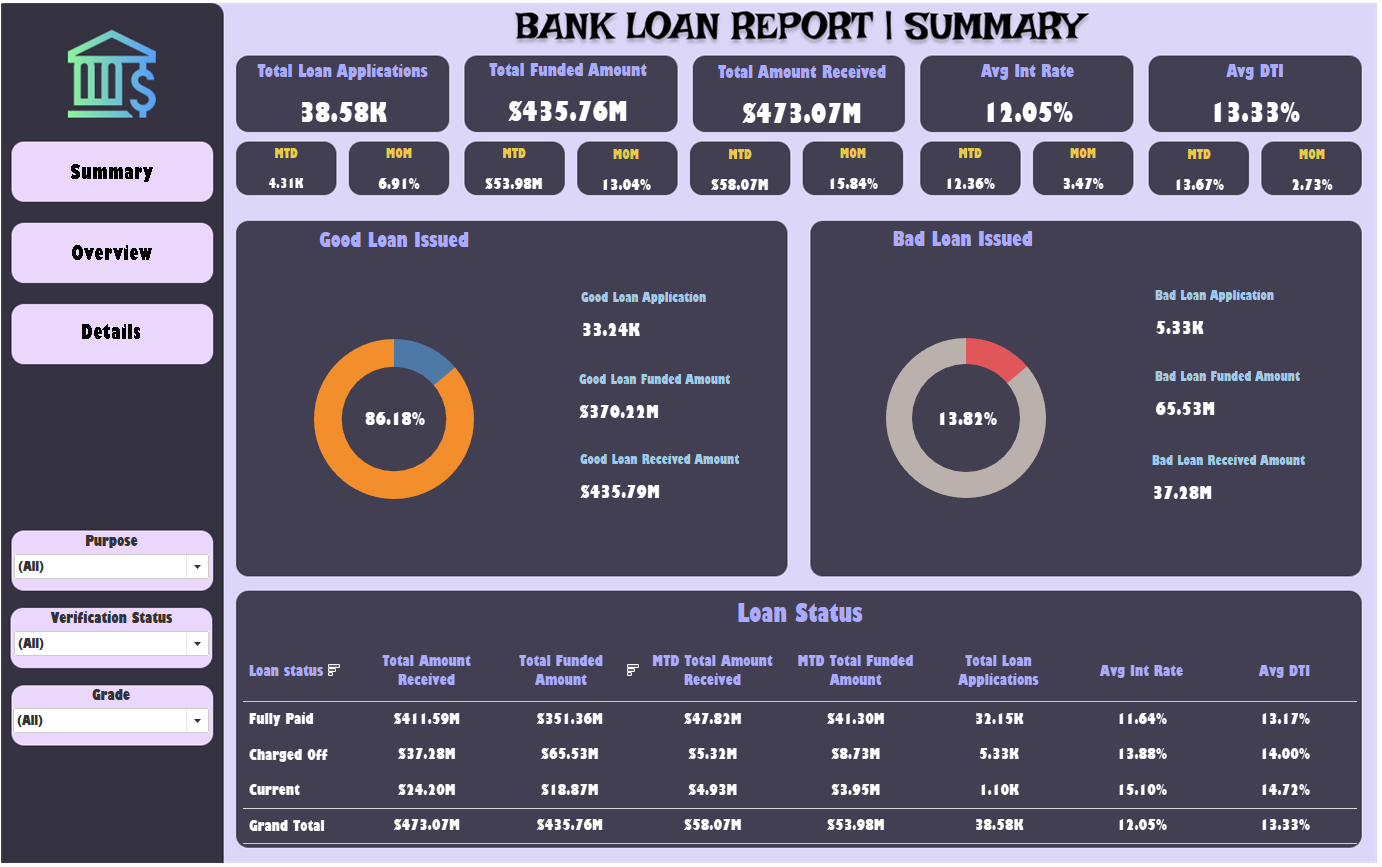

Layout of this report page (visuals, bound fields, positions):
{"tool":"tableau","page":{"name":"Summary","canvas":[1400,900],"ordinal":2},"visuals":[{"type":"image","param":"D:/Downloads/Background 1.jpg","box":[8,8,1384,884]},{"type":"worksheet","title":"Total Funded Amount","mark":"Automatic","box":[471,72,216,75]},{"type":"worksheet","title":"Total Loan Applications","mark":"Automatic","box":[247,73,213,75]},{"type":"worksheet","title":"Avg Int Rate","mark":"Automatic","box":[932,73,213,75]},{"type":"worksheet","title":"Avg DTI","mark":"Automatic","box":[1160,73,212,74]},{"type":"worksheet","title":"Total Amount Received","mark":"Automatic","box":[704,74,218,74]},{"type":"worksheet","title":"MTD Total Loan Applications","mark":"Automatic","box":[247,158,100,53]},{"type":"worksheet","title":"MOM Total Loan Applications","mark":"Automatic","box":[360,158,100,53]},{"type":"worksheet","title":"MTD Total Funded Amount","mark":"Automatic","box":[475,158,100,53]},{"type":"worksheet","title":"MOM Total Amount Received","mark":"Automatic","box":[814,158,100,53]},{"type":"worksheet","title":"MTD Avg Int Rate","mark":"Automatic","box":[931,158,100,53]},{"type":"worksheet","title":"MOM Avg Int Rate","mark":"Automatic","box":[1044,158,100,53]},{"type":"worksheet","title":"MOM Total Funded Amount","mark":"Automatic","box":[587,159,100,53]},{"type":"worksheet","title":"MTD Total Amount Received","mark":"Automatic","box":[701,159,100,53]},{"type":"worksheet","title":"MTD Avg DTI","mark":"Automatic","box":[1160,159,100,53]},{"type":"worksheet","title":"MOM Avg DTI","mark":"Automatic","box":[1273,159,100,53]},{"type":"dashboard-object","box":[21,160,204,60]},{"type":"worksheet","title":"Bad Loan Issued ","mark":"Pie","rows":["Calculation_218706112347074585","Calculation_218706112347074585"],"box":[821,239,312,352]},{"type":"worksheet","title":"Good Loan Issued","mark":"Pie","rows":["Calculation_218706112347074585","Calculation_218706112347074585"],"box":[249,240,312,352]},{"type":"dashboard-object","box":[21,241,204,60]},{"type":"worksheet","title":"Bad Loan Application","mark":"Automatic","box":[1162,300,195,57]},{"type":"worksheet","title":"Good Loan Application","mark":"Automatic","box":[588,302,195,57]},{"type":"dashboard-object","box":[21,320,204,60]},{"type":"worksheet","title":"Bad Loan Funded Amount","mark":"Automatic","box":[1162,381,195,57]},{"type":"worksheet","title":"Good Loan Funded Amount","mark":"Automatic","box":[586,384,195,57]},{"type":"worksheet","title":"Good Loan Application %","mark":"Automatic","box":[358,415,95,41]},{"type":"worksheet","title":"Bad Loan Application % ","mark":"Automatic","box":[930,415,95,41]},{"type":"worksheet","title":"Good Loan Received Amount","mark":"Automatic","box":[587,464,195,57]},{"type":"worksheet","title":"Bad Loan Received Amount ","mark":"Automatic","box":[1159,465,195,57]},{"type":"filter","title":"Good Loan Issued","param":"[federated.1gfo55517bjfwz14nxn561phauzz].[none:purpose:nk]","box":[22,548,201,58]},{"type":"worksheet","title":"Loan Status","mark":"Automatic","rows":["loan_status"],"box":[254,610,1114,251]},{"type":"filter","title":"Good Loan Issued","param":"[federated.1gfo55517bjfwz14nxn561phauzz].[none:verification_status:nk]","box":[22,625,201,58]},{"type":"filter","title":"Good Loan Issued","param":"[federated.1gfo55517bjfwz14nxn561phauzz].[none:grade:nk]","box":[21,702,202,61]}]}

Visuals, with their boxes in screenshot pixels (x1, y1, x2, y2), scaled from the page's 1400x900 canvas onto the 1382x867 screenshot:
image: 8 8 1374 859
"Total Funded Amount" worksheet: 465 69 678 142
"Total Loan Applications" worksheet: 244 70 454 143
"Avg Int Rate" worksheet: 920 70 1130 143
"Avg DTI" worksheet: 1145 70 1354 142
"Total Amount Received" worksheet: 695 71 910 143
"MTD Total Loan Applications" worksheet: 244 152 343 203
"MOM Total Loan Applications" worksheet: 355 152 454 203
"MTD Total Funded Amount" worksheet: 469 152 568 203
"MOM Total Amount Received" worksheet: 804 152 902 203
"MTD Avg Int Rate" worksheet: 919 152 1018 203
"MOM Avg Int Rate" worksheet: 1031 152 1129 203
"MOM Total Funded Amount" worksheet: 579 153 678 204
"MTD Total Amount Received" worksheet: 692 153 791 204
"MTD Avg DTI" worksheet: 1145 153 1244 204
"MOM Avg DTI" worksheet: 1257 153 1355 204
dashboard-object: 21 154 222 212
"Bad Loan Issued " worksheet (Pie marks): 810 230 1118 569
"Good Loan Issued" worksheet (Pie marks): 246 231 554 570
dashboard-object: 21 232 222 290
"Bad Loan Application" worksheet: 1147 289 1340 344
"Good Loan Application" worksheet: 580 291 773 346
dashboard-object: 21 308 222 366
"Bad Loan Funded Amount" worksheet: 1147 367 1340 422
"Good Loan Funded Amount" worksheet: 578 370 771 425
"Good Loan Application %" worksheet: 353 400 447 439
"Bad Loan Application % " worksheet: 918 400 1012 439
"Good Loan Received Amount" worksheet: 579 447 772 502
"Bad Loan Received Amount " worksheet: 1144 448 1337 503
"Good Loan Issued" filter: 22 528 220 584
"Loan Status" worksheet: 251 588 1350 829
"Good Loan Issued" filter: 22 602 220 658
"Good Loan Issued" filter: 21 676 220 735
